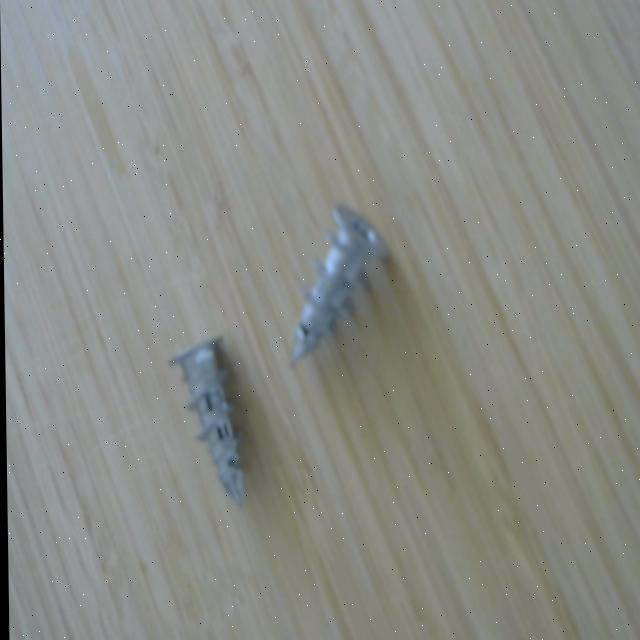Short screw: (278, 187, 402, 380), (161, 324, 254, 524)
